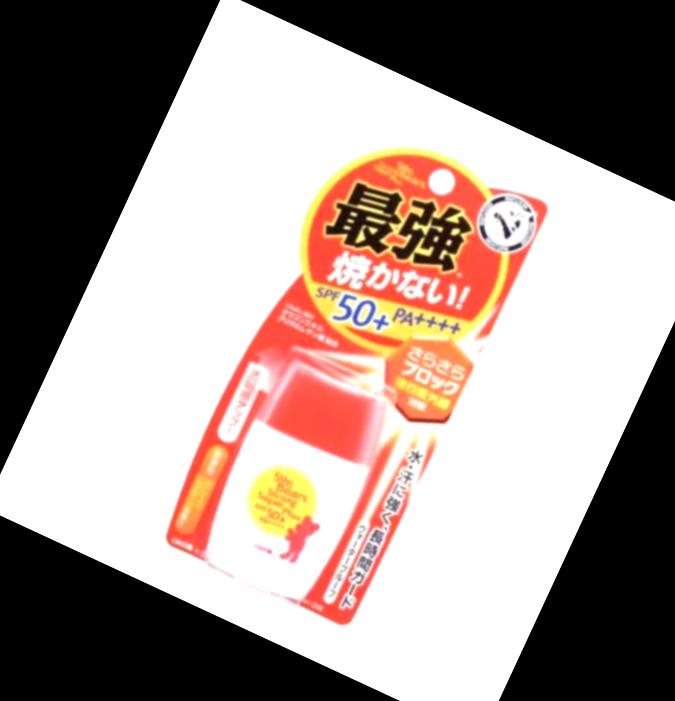cosmetic: (188, 353, 401, 616)
